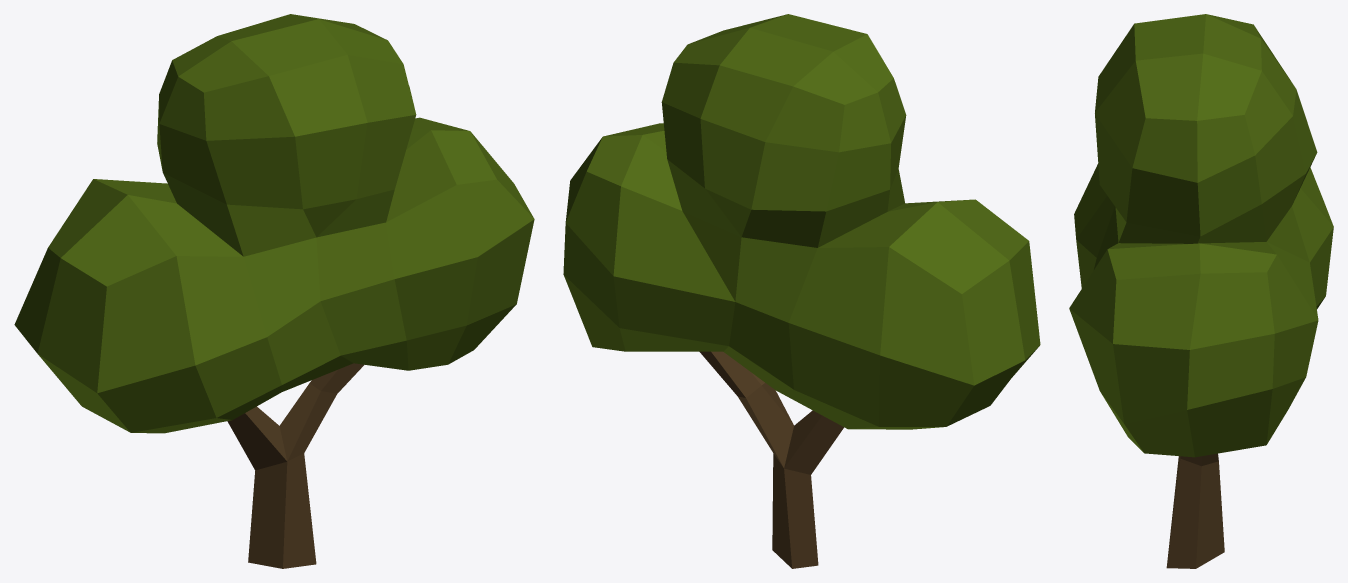
The model's file is TreesAndBushes_071.fbx.
The picture shows the model from 3 angles, left to right: view 1: azimuth 30°, elevation 25°; view 2: azimuth 150°, elevation 25°; view 3: azimuth 270°, elevation 25°; orthographic projection.
Visible parts, largest first — view 1: TreesAndBushes_071; view 2: TreesAndBushes_071; view 3: TreesAndBushes_071.
Part boxes in pixels (<box>): TreesAndBushes_071: <box>14,14,534,568</box>; TreesAndBushes_071: <box>563,14,1040,568</box>; TreesAndBushes_071: <box>1069,14,1333,568</box>.
Bounding box in the file's own units: 154 × 165 × 75.64.
